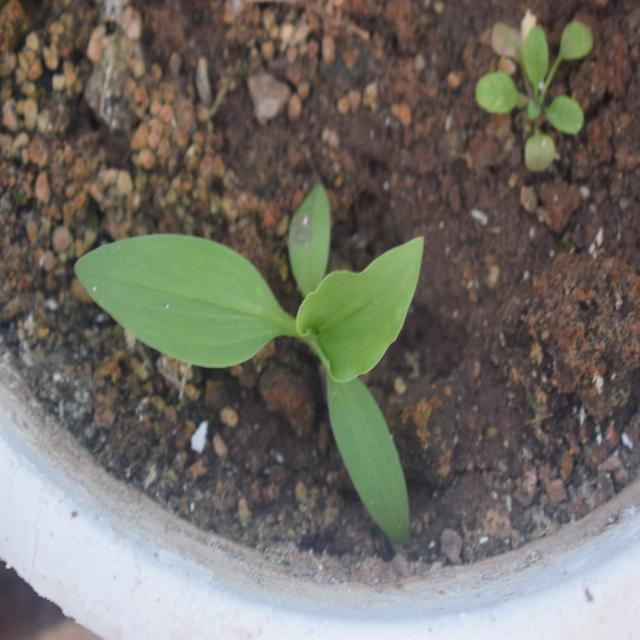Common Dayflower: (86, 204, 439, 545)
